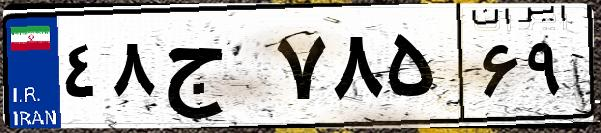4: (57, 26, 110, 100)
5: (385, 28, 445, 110)
6: (475, 38, 525, 113)
7: (270, 28, 330, 110)
8: (330, 28, 385, 110), (110, 28, 158, 98)
9: (525, 38, 570, 115)
ج: (158, 20, 270, 120)
